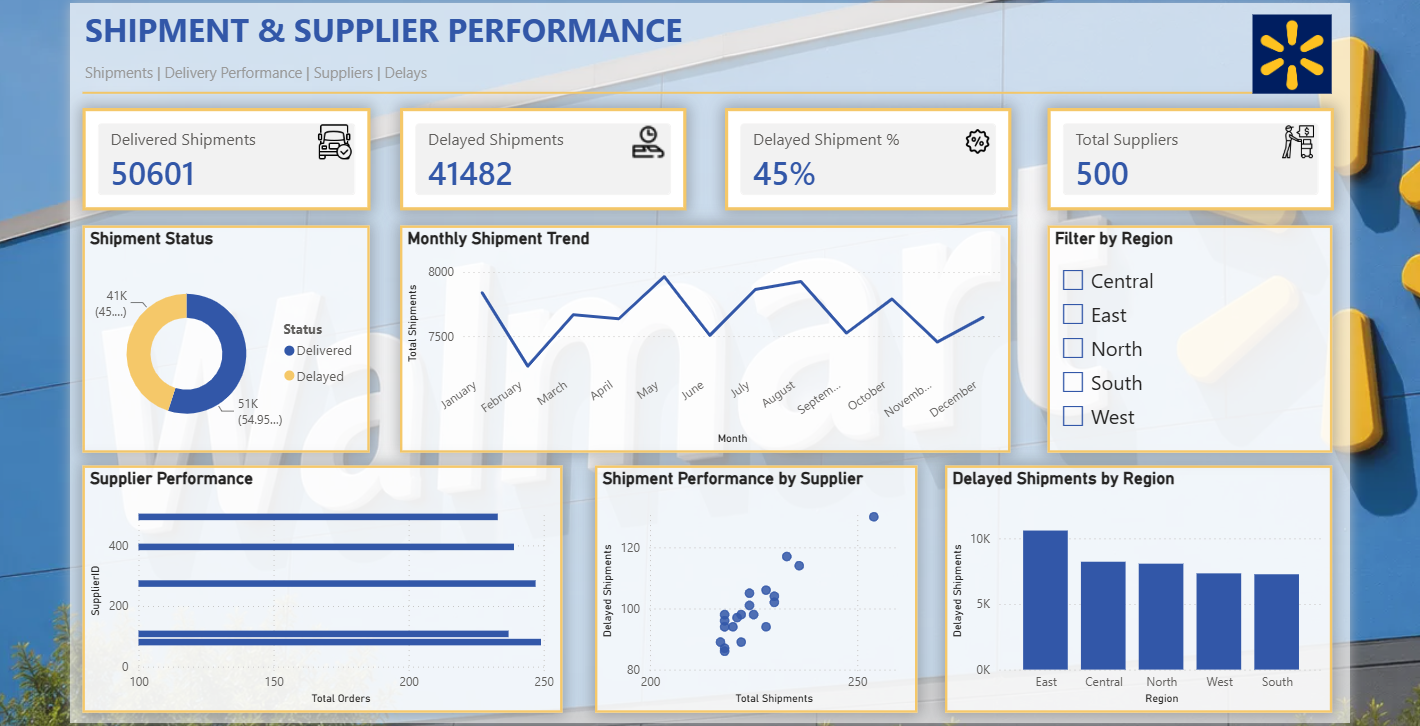

The dashboard page shown, as its layout file describes it:
{"tool":"powerbi","page":{"name":"Shipment & Supplier Performance","canvas":[1280,720],"ordinal":2},"visuals":[{"type":"textbox","box":[10,0,616.7,53.3],"z":0},{"type":"textbox","box":[10,54,353.8,31.5],"z":1000},{"type":"shape","box":[12.9,84,1170,12.1],"z":1001},{"type":"image","box":[1182.5,7.5,79.2,87.5],"z":1002},{"type":"cardVisual","fields":{"Data":["Shipments.Delivered Shipments"]},"box":[12.5,105,288,102],"z":1003},{"type":"cardVisual","fields":{"Data":["Shipments.Delayed Shipments"]},"box":[330,105,286,102],"z":1004},{"type":"cardVisual","fields":{"Data":["DateTable.Delayed Shipment %"]},"box":[655,105,286,102],"z":1005},{"type":"cardVisual","fields":{"Data":["Suppliers.Total Suppliers"]},"box":[977.5,105,286,102],"z":1006},{"type":"donutChart","title":"Shipment Status","fields":{"Category":["Shipments.Status"],"Y":["Shipments.Total Shipments"]},"box":[12.5,222.5,287.5,227.5],"z":1007},{"type":"lineChart","title":"Monthly Shipment Trend","fields":{"Category":["DateTable.Month"],"Y":["Shipments.Total Shipments"]},"box":[330,222.5,610,227.5],"z":1008},{"type":"clusteredBarChart","title":"Supplier Performance","fields":{"Category":["Suppliers.SupplierID"],"Y":["Orders.Total Orders"]},"box":[12.5,462.5,480,247.5],"z":1009},{"type":"clusteredColumnChart","fields":{"Category":["Stores.Region"],"Y":["Shipments.Delayed Shipments"]},"box":[875,462.5,387.5,247.5],"z":1010},{"type":"slicer","title":"Filter by Region","fields":{"Values":["Stores.Region"]},"box":[977.5,222.5,285,227.5],"z":1011},{"type":"scatterChart","title":"Shipment Performance by Supplier","fields":{"Category":["Suppliers.SupplierID"],"X":["Shipments.Total Shipments"],"Y":["Shipments.Delayed Shipments"]},"box":[525,462.5,322.5,247.5],"z":1012},{"type":"image","box":[244.4,121.1,38.3,35],"z":1013},{"type":"image","box":[560.6,121.1,37.2,35],"z":1014},{"type":"image","box":[1207.2,121.1,39.4,35],"z":1015},{"type":"image","box":[891.1,121.1,32.8,35],"z":1016}]}

Visuals, with their boxes on the page's 1280x720 design canvas (x1, y1, x2, y2). These are canvas units, not pixel positions in the 1420x726 screenshot, which may show the page scaled, cropped or inside an application window:
textbox: 10,0,627,53
textbox: 10,54,364,86
shape: 13,84,1183,96
image: 1182,8,1262,95
cardVisual - Shipments.Delivered Shipments: 12,105,300,207
cardVisual - Shipments.Delayed Shipments: 330,105,616,207
cardVisual - DateTable.Delayed Shipment %: 655,105,941,207
cardVisual - Suppliers.Total Suppliers: 978,105,1264,207
"Shipment Status" donutChart: 12,222,300,450
"Monthly Shipment Trend" lineChart: 330,222,940,450
"Supplier Performance" clusteredBarChart: 12,462,492,710
clusteredColumnChart - Stores.Region x Shipments.Delayed Shipments: 875,462,1262,710
"Filter by Region" slicer: 978,222,1262,450
"Shipment Performance by Supplier" scatterChart: 525,462,848,710
image: 244,121,283,156
image: 561,121,598,156
image: 1207,121,1247,156
image: 891,121,924,156
